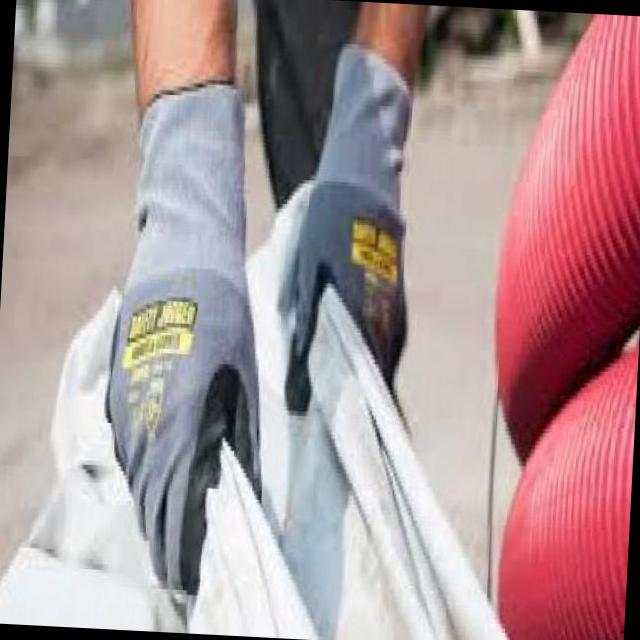forklift: (95, 92, 288, 626), (268, 42, 438, 431)
